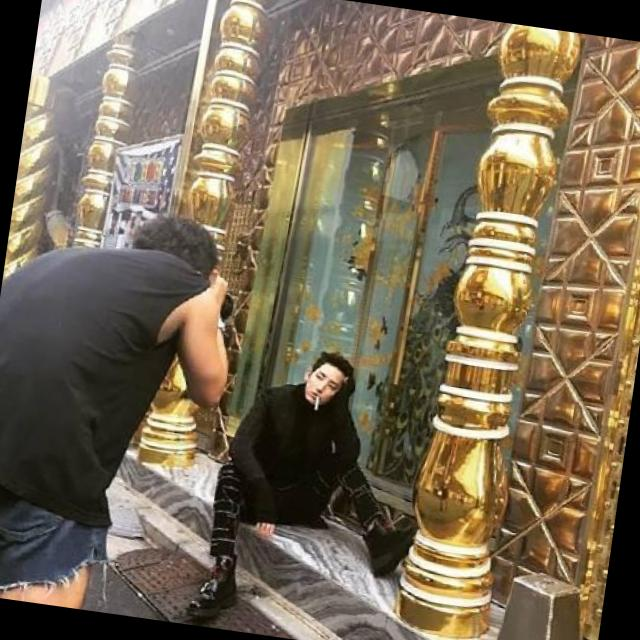cigarette: (310, 394, 324, 422)
